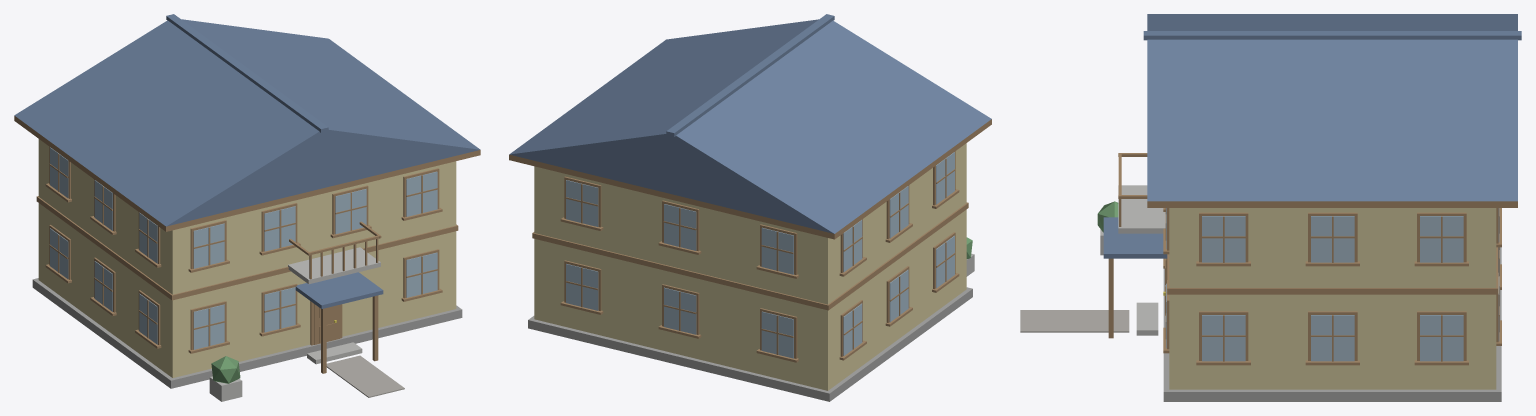
The model's file is Villa_18.glb.
3 renders of one model, left to right at view 1: azimuth 30°, elevation 25°; view 2: azimuth 150°, elevation 25°; view 3: azimuth 270°, elevation 25°, orthographic. The views are drawn at different scales.
Parts seen in each view (by area): view 1: Villa_18; view 2: Villa_18; view 3: Villa_18.
Part boxes in pixels (<box>): Villa_18: <box>14,14,480,401</box>; Villa_18: <box>509,14,991,401</box>; Villa_18: <box>1020,14,1521,401</box>.
Bounding box in the file's own units: 12.2 × 8.56 × 13.8.
